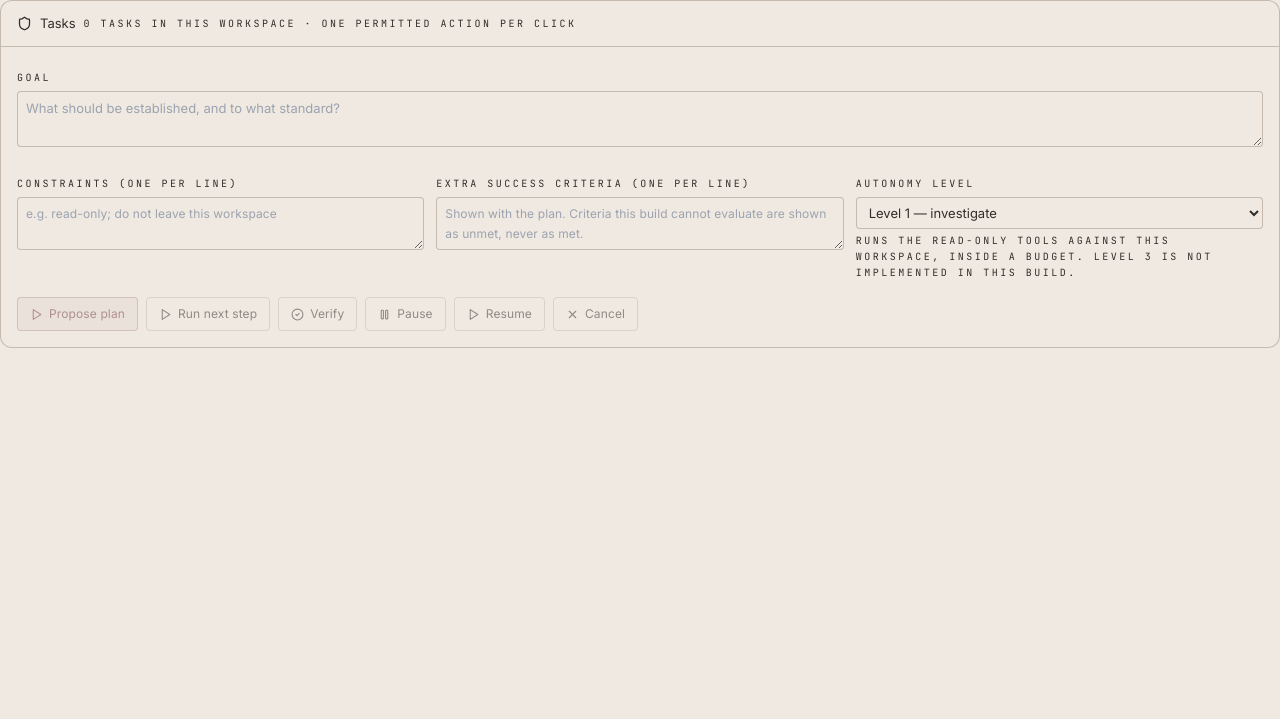
Scenario: tasks panel › plans nothing at level 0 and says so instead of pretending
Select "Level 0 — advise" in the dropdown labelled "Autonomy level" at (1059, 213), box [856,197,1263,229]
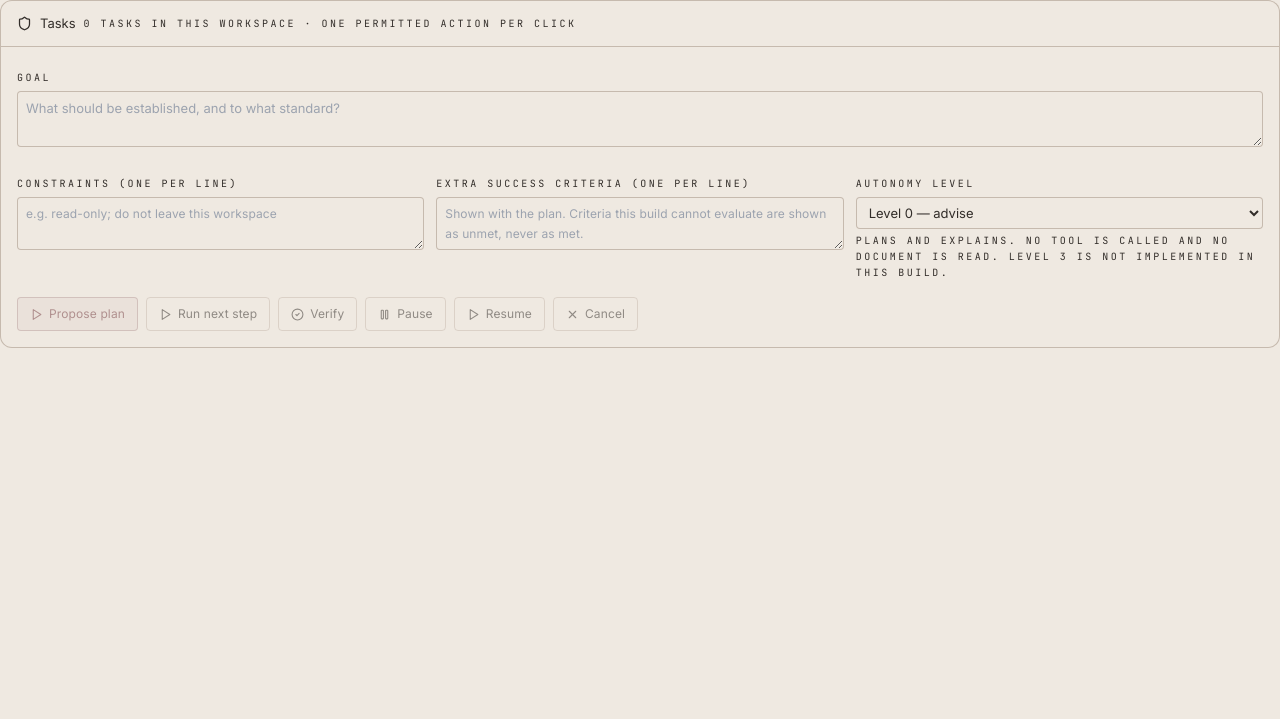
Type "Explain what a coolant loop does" into the text box named "Task goal" at (640, 119), box [17,91,1263,147]
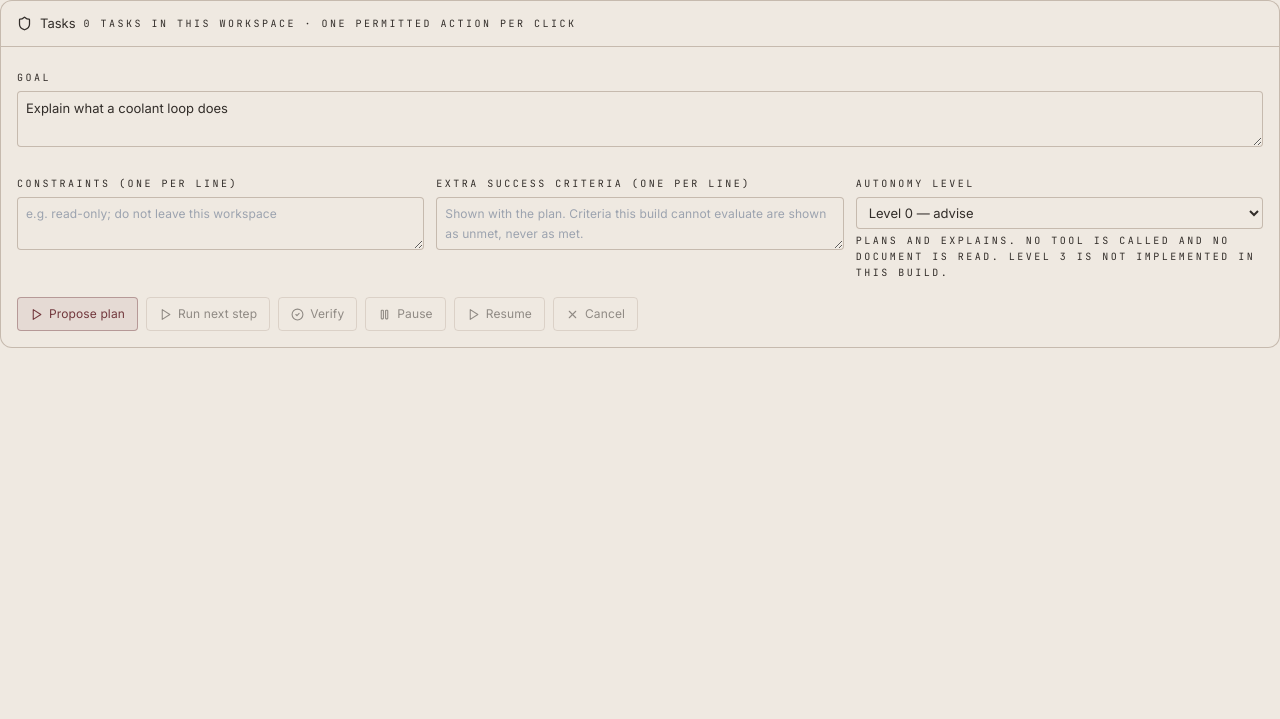
Click the button "Propose plan" at (78, 314), box [17,297,138,331]
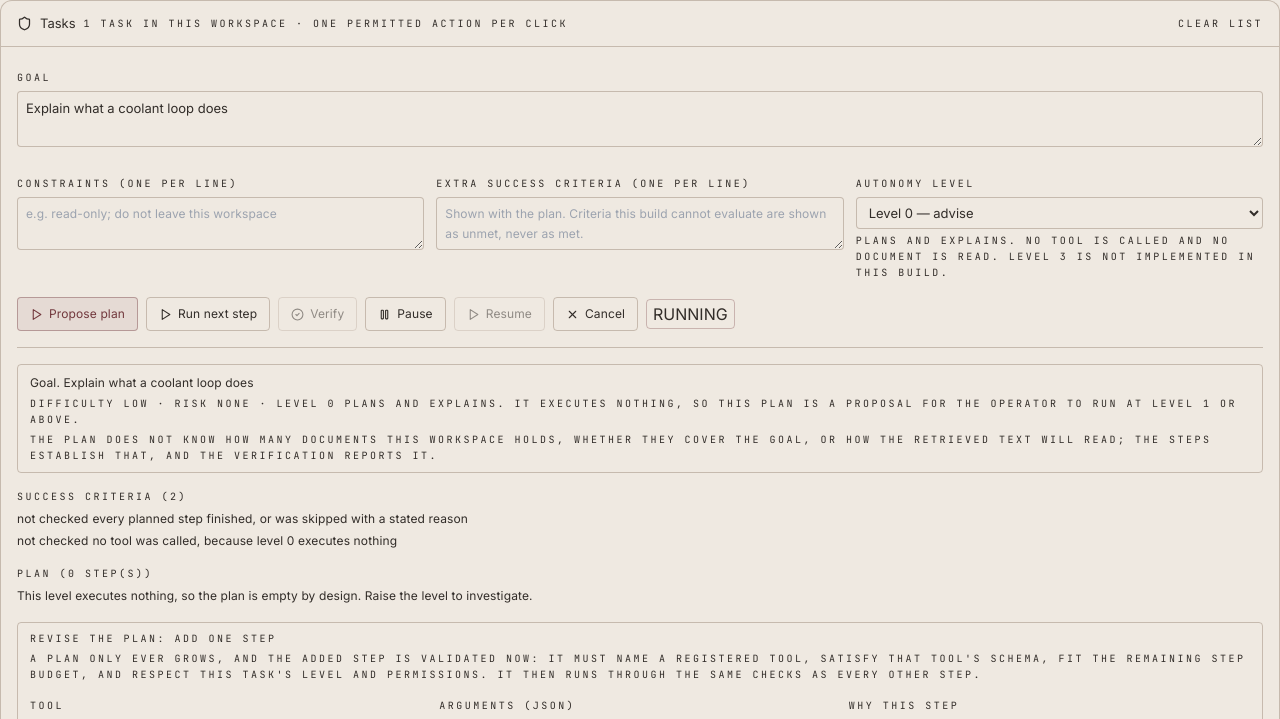
Expected: the text "This level executes nothing" is shown, [17,588,533,603]
Expected: the list item "no tool was called, because level 0 executes nothing" is shown, [92,533,397,548]
